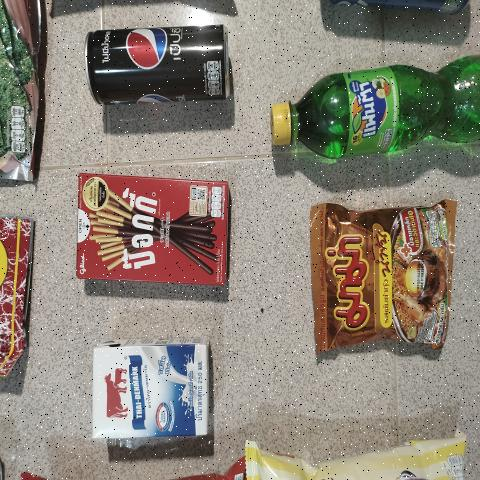fanta_green: (256, 60, 480, 169)
mama: (312, 204, 446, 350)
pepsi_black: (82, 23, 234, 109)
pokki: (81, 173, 226, 284)
thai_denmark: (89, 351, 209, 451)
